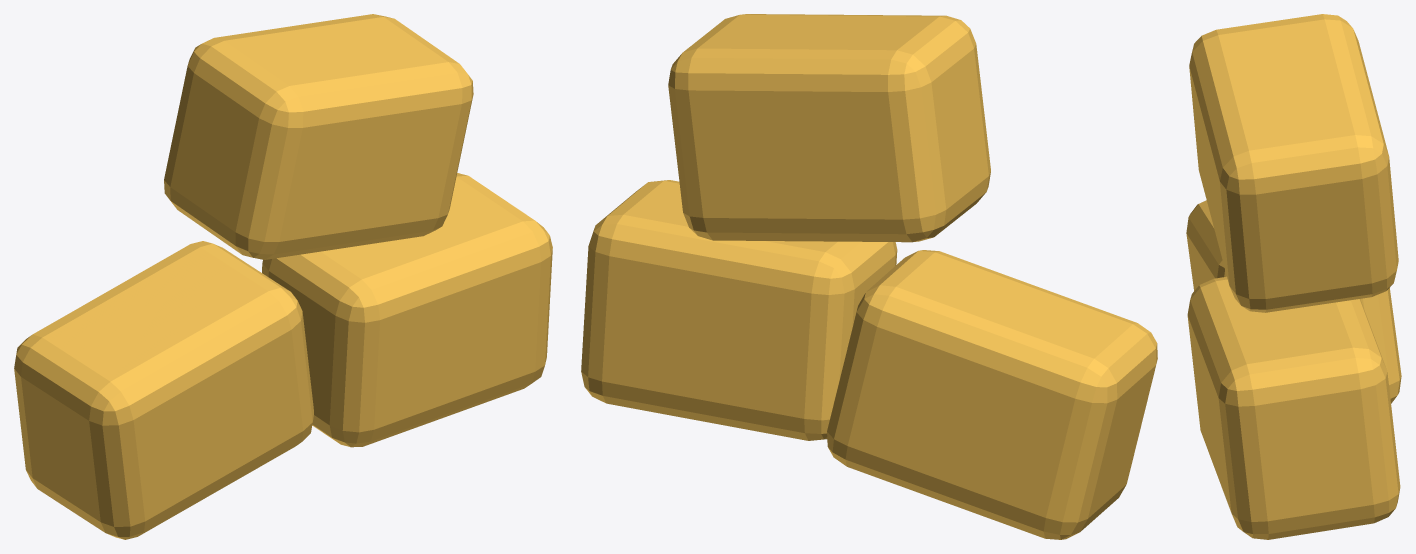
File: ore-4.glb
The picture shows the model from 3 angles, left to right: view 1: azimuth 30°, elevation 25°; view 2: azimuth 150°, elevation 25°; view 3: azimuth 270°, elevation 25°; orthographic projection. The views are drawn at different scales.
Visible parts, largest first — view 1: Goldium cuboid crystal, Goldium cuboid crystal.002, Goldium cuboid crystal.001; view 2: Goldium cuboid crystal, Goldium cuboid crystal.002, Goldium cuboid crystal.001; view 3: Goldium cuboid crystal.002, Goldium cuboid crystal.001, Goldium cuboid crystal.
Part boxes in pixels (x1=…): Goldium cuboid crystal: x1=14, y1=241, x2=313, y2=539; Goldium cuboid crystal.002: x1=164, y1=14, x2=473, y2=259; Goldium cuboid crystal.001: x1=262, y1=173, x2=552, y2=447; Goldium cuboid crystal: x1=827, y1=250, x2=1157, y2=539; Goldium cuboid crystal.002: x1=668, y1=14, x2=990, y2=242; Goldium cuboid crystal.001: x1=581, y1=180, x2=897, y2=440; Goldium cuboid crystal.002: x1=1189, y1=14, x2=1398, y2=312; Goldium cuboid crystal.001: x1=1187, y1=276, x2=1400, y2=539; Goldium cuboid crystal: x1=1186, y1=200, x2=1401, y2=403.
Size of the model in its own units: 1.44 by 1.19 by 0.539.
